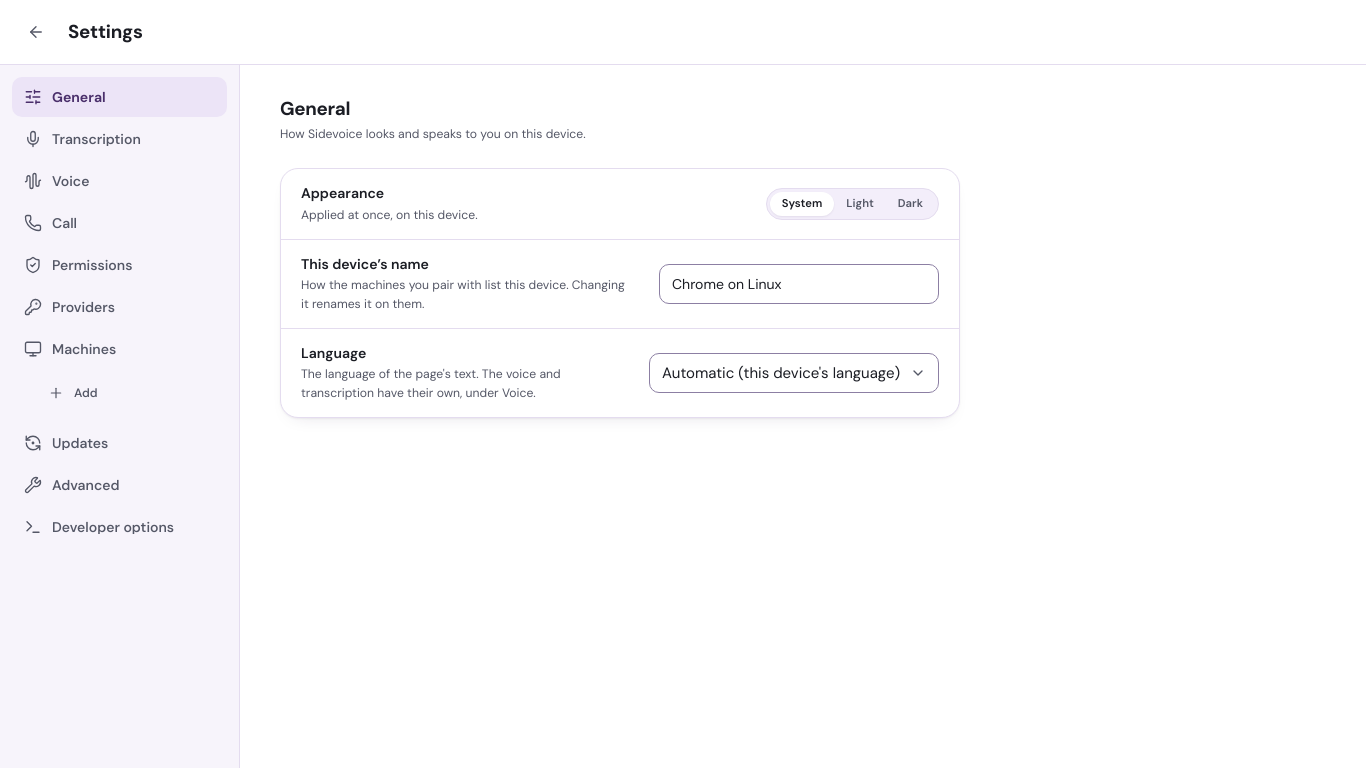
developer mode turned off while another section shows leaves that section alone
Click the button with id "settings-advanced".
click(120, 485)  # box x1=12 y1=465 x2=227 y2=505
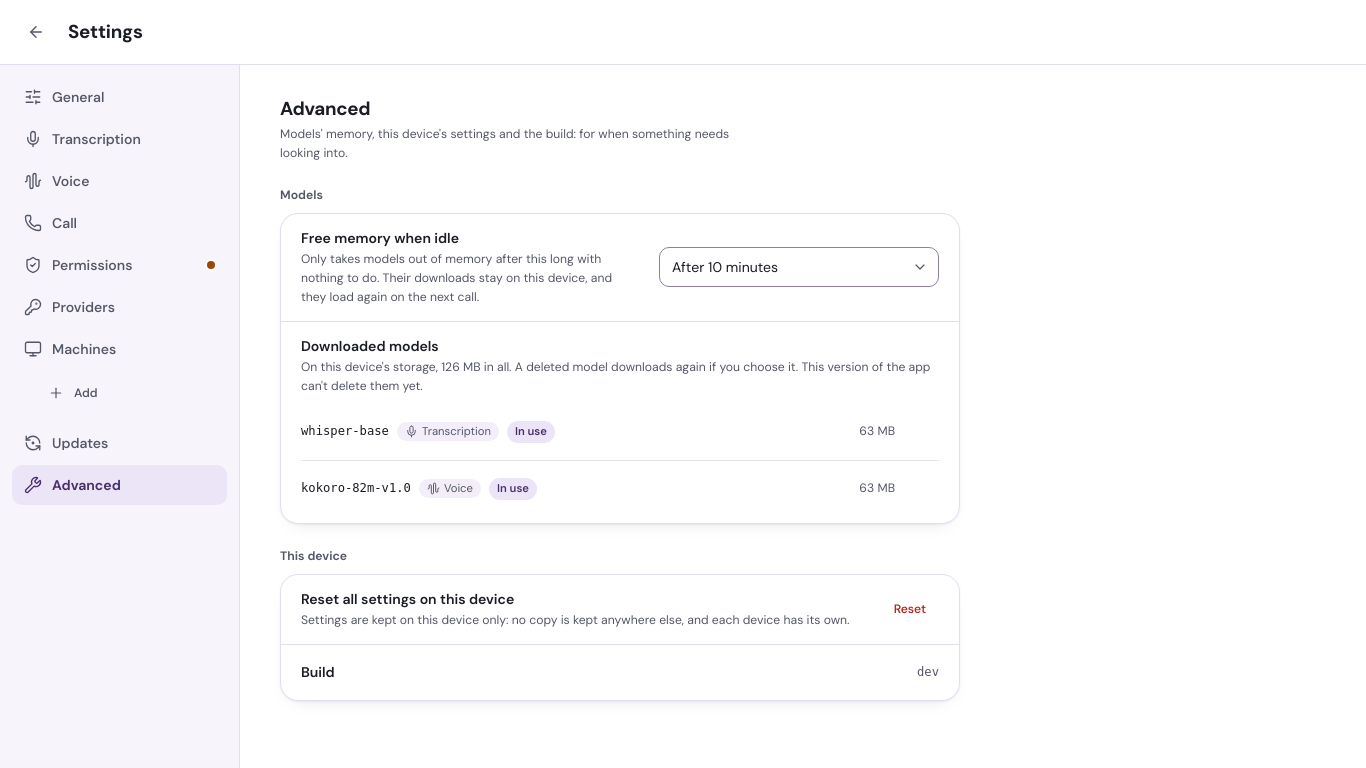
Check: the button "Developer options" no longer shows "Developer options"
